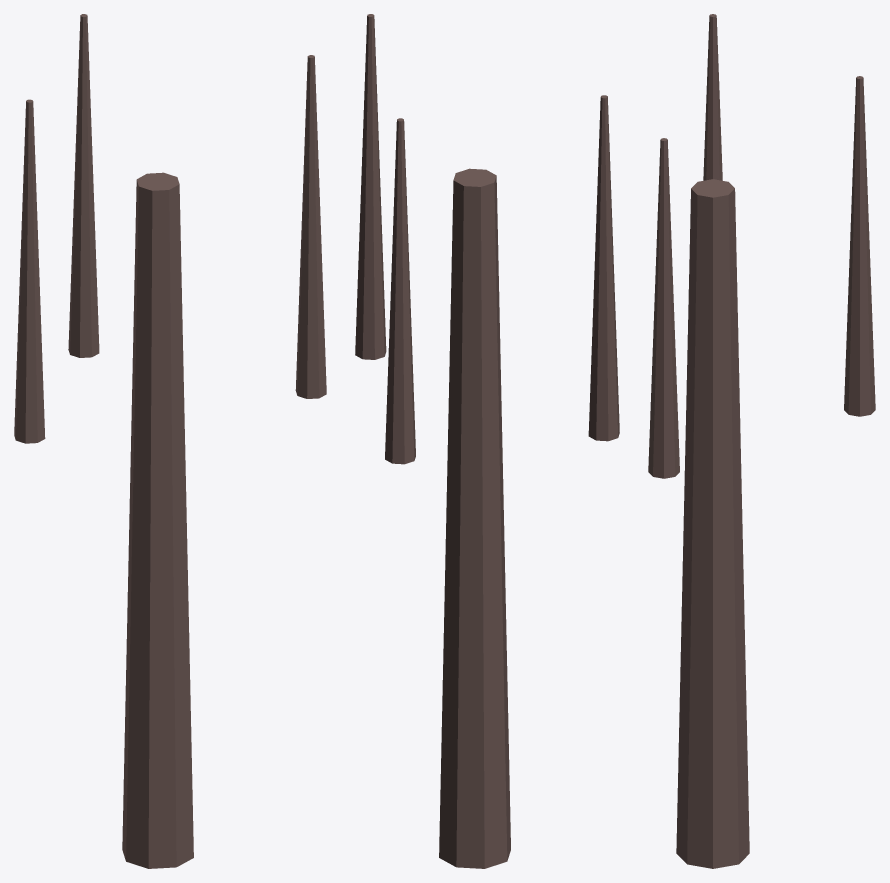
The model's file is tree-bare.glb.
3 views of the same model, side by side, from view 1: azimuth 30°, elevation 25°; view 2: azimuth 150°, elevation 25°; view 3: azimuth 270°, elevation 25° (orthographic).
Visible parts, largest first — view 1: trunk, branch (×3); view 2: trunk, branch (×3); view 3: trunk, branch (×3).
Part boxes in pixels (x1,y1,x2,y2): trunk: (122, 172, 193, 868); branch (×3): (14, 14, 326, 443); trunk: (439, 168, 510, 868); branch (×3): (355, 14, 619, 464); trunk: (676, 179, 749, 868); branch (×3): (648, 14, 875, 478).
Size of the model in its own units: 1.33 by 3.5 by 0.93.
